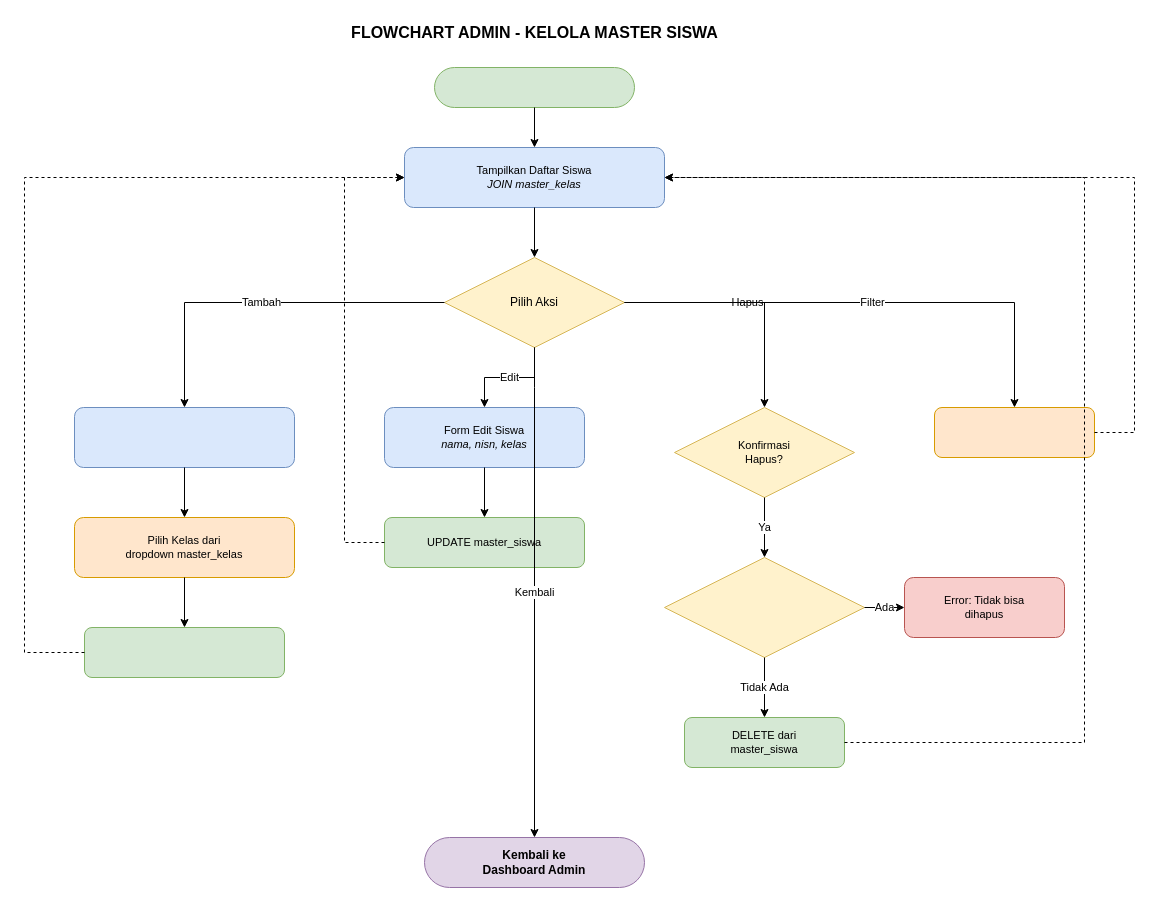
The diagram is 1160 pixels wide and 905 high, and some of its shapes have lost their labels. The centre of each missing label's shape, as x and y in pixels:
Cek Relasi: presensi_siswa terkait?: [764,607]
Filter by Kelas kelas_id: [1014,432]
Form Input Siswa nama_siswa, nisn: [184,437]
INSERT ke master_siswa dengan kelas_id: [184,652]
Master Siswa: [534,87]
